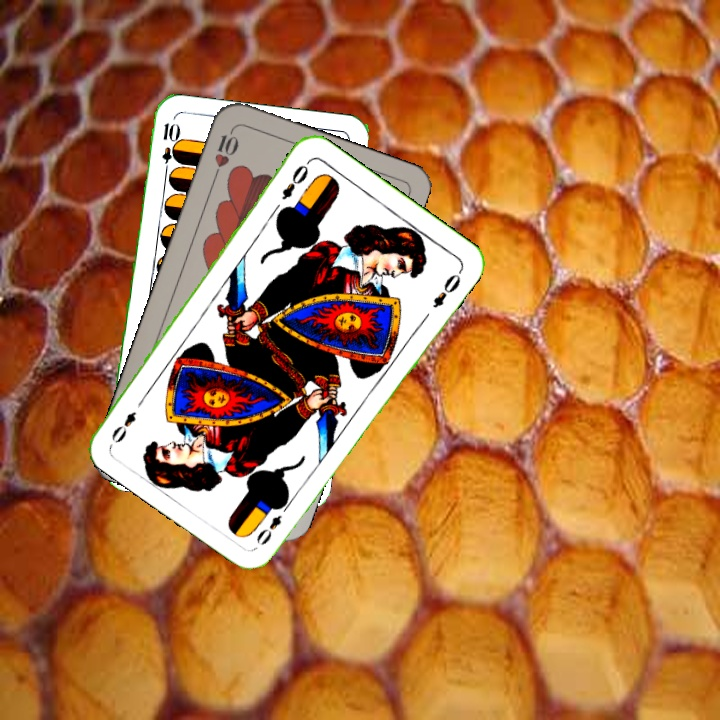E10: (158, 119, 178, 178)
EO: (252, 498, 293, 548), (277, 156, 313, 203)
H10: (209, 125, 241, 182)
